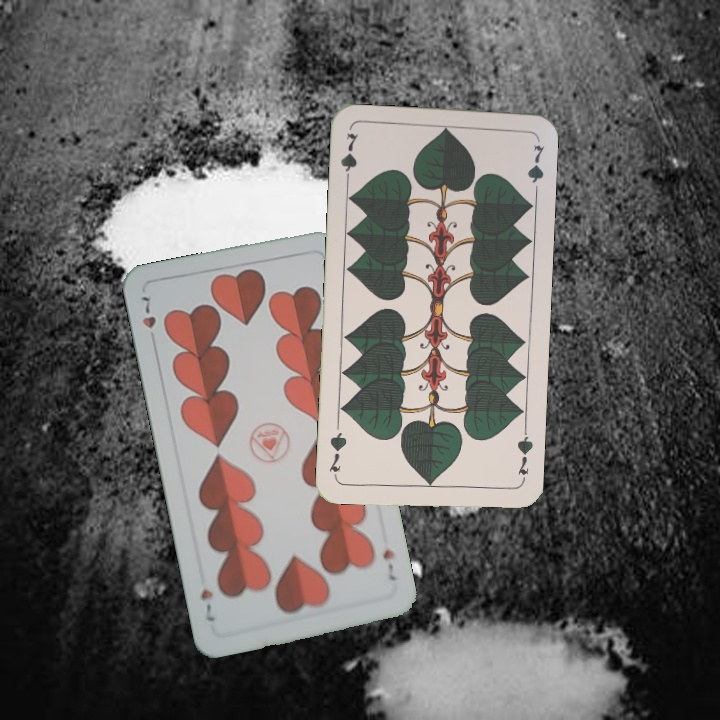G7: (337, 128, 361, 188), (513, 426, 536, 485)
H7: (137, 291, 159, 348), (378, 545, 398, 583)
